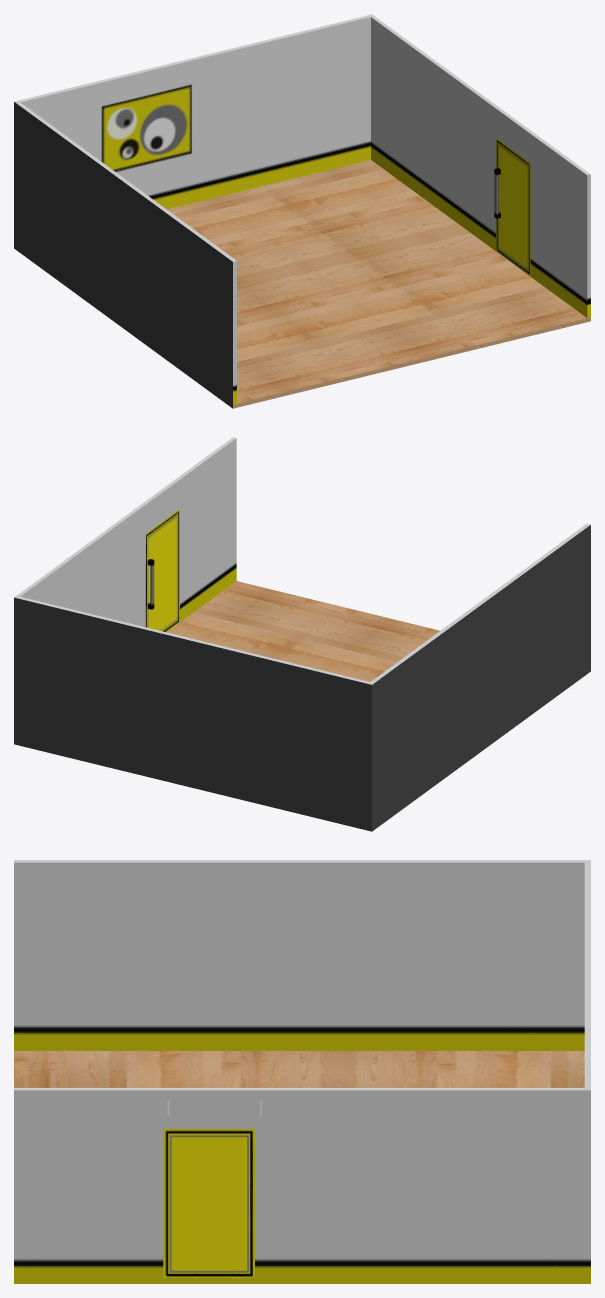
The model's file is library.FBX.
3 renders of one model, top to bottom at view 1: azimuth 30°, elevation 25°; view 2: azimuth 150°, elevation 25°; view 3: azimuth 270°, elevation 25°, orthographic. The views are drawn at different scales.
Parts seen in each view (by area): view 1: Plane001, Object001; view 2: Plane001, Object001; view 3: Plane001, Object001.
Part boxes in pixels (x1,y1,x2,y2): Plane001: (14,14,590,408); Object001: (494,138,530,276); Plane001: (14,437,590,831); Object001: (145,509,179,632); Plane001: (14,860,590,1283); Object001: (163,1128,254,1278).
Size of the model in its own units: 234 by 91.55 by 247.
Materials: 2 (2 with a texture image).
